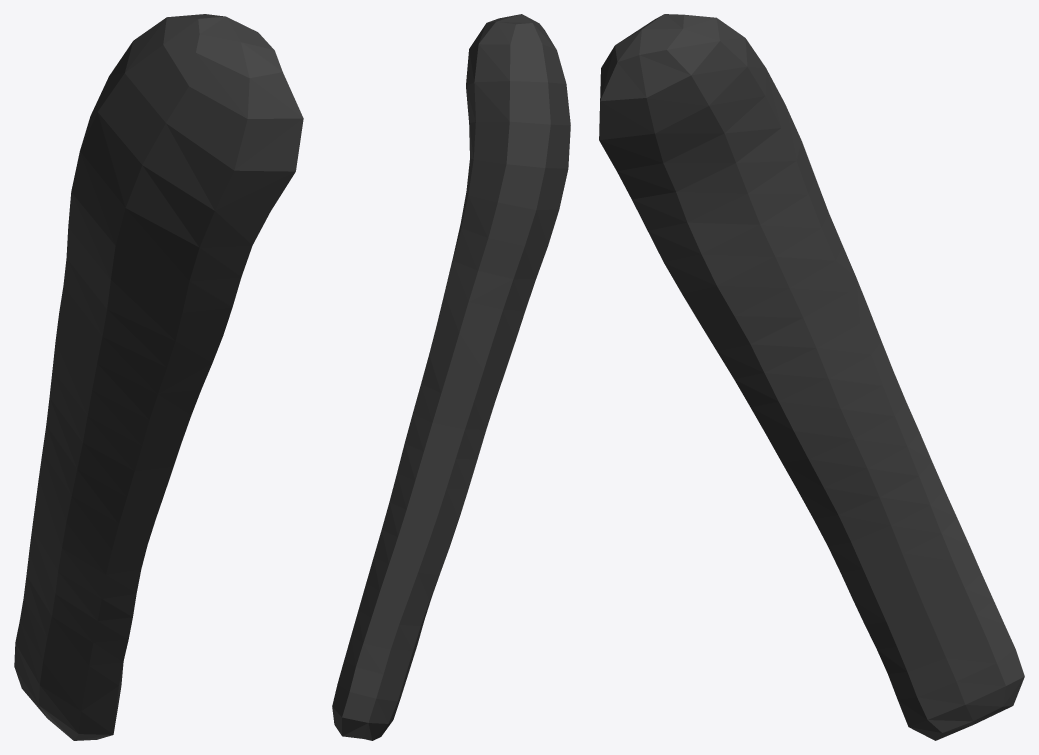
File: Medial_pat_lig.glb
3 views of the same model, side by side, from view 1: azimuth 30°, elevation 25°; view 2: azimuth 150°, elevation 25°; view 3: azimuth 270°, elevation 25° (orthographic). The views are drawn at different scales.
Visible parts, largest first — view 1: Medial_pat_lig; view 2: Medial_pat_lig; view 3: Medial_pat_lig.
Part boxes in pixels (left/top/right/bottom): Medial_pat_lig: left=14, top=14, right=303, bottom=740; Medial_pat_lig: left=332, top=14, right=570, bottom=740; Medial_pat_lig: left=599, top=14, right=1024, bottom=740.
Size of the model in its own units: 28.55 by 158 by 86.26.
Materials: 1 (1 with a texture image).
